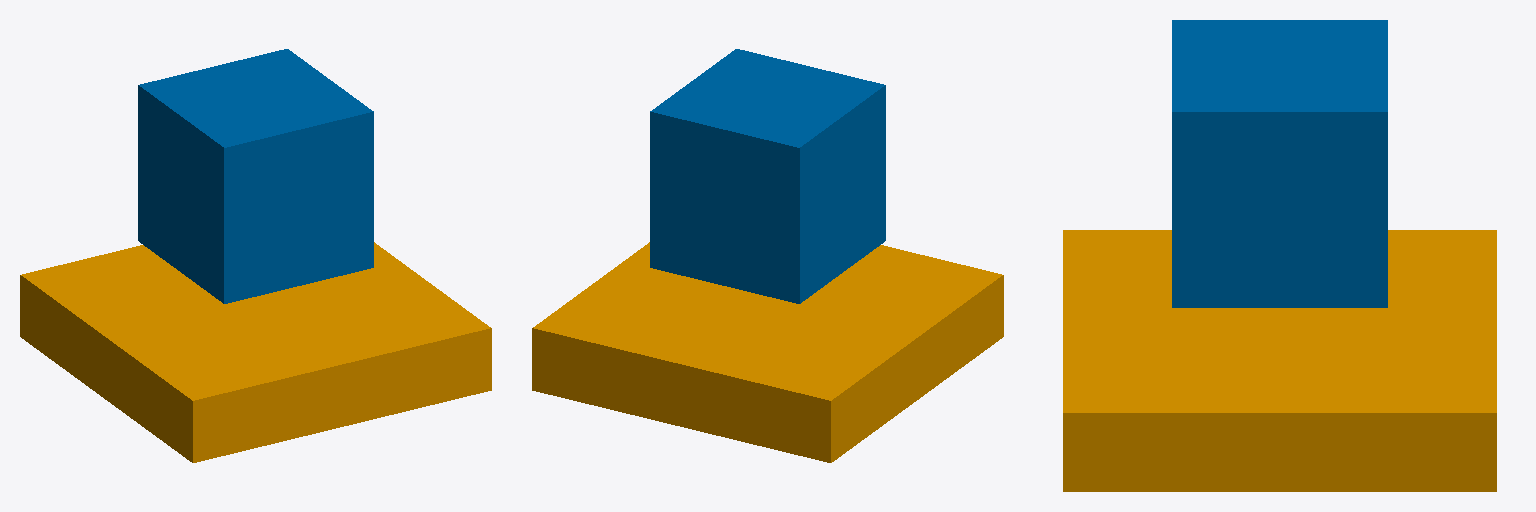
The robot description file, URDF, robot "link_skip_ghost_link_chain_branch":
<?xml version="1.0"?>
<robot name="link_skip_ghost_link_chain_branch">
  <!-- There are `Ghost Links` from the middle to the end of the link chain. -->
  <!-- Also, in this URDF, the joints are branched. -->
  <!-- In this case, the rigid body of the ghost link is deleted, and the joint referencing it is also deleted. -->
  <link name="BaseLink">
    <visual>
      <geometry>
        <box size="1.0 1.0 0.2"/>
      </geometry>
    </visual>
    <collision>
      <geometry>
        <box size="1.0 1.0 0.2"/>
      </geometry>
    </collision>
  </link>
  <link name="ghost_link" />
  <link name="ghost_link_2" />
  <link name="ghost_link_3" />
  <link name="link_box">
    <visual>
      <geometry>
        <box size="0.5 0.5 0.5"/>
      </geometry>
    </visual>
    <collision>
      <geometry>
        <box size="0.5 0.5 0.5"/>
      </geometry>
    </collision>
  </link>
  <link name="ghost_link_4" />
  <link name="ghost_link_5" />

  <joint name="joint1" type="fixed">
    <origin rpy="0 0 0" xyz="0 0 0.1"/>
    <parent link="BaseLink"/>
    <child link="ghost_link"/>
  </joint>
  <joint name="joint2" type="fixed">
    <origin rpy="0 0 0" xyz="0 0 0.1"/>
    <parent link="ghost_link"/>
    <child link="ghost_link_2"/>
  </joint>
  <joint name="joint3" type="fixed">
    <origin rpy="0 0 0" xyz="0 0 0.1"/>
    <parent link="ghost_link_2"/>
    <child link="ghost_link_3"/>
  </joint>
  <joint name="joint_box" type="revolute">
    <origin rpy="0 0 0" xyz="0 0 0.2"/>
    <axis xyz="0 1 0"/>
    <limit lower="-1.0" upper="1.0"/>
    <parent link="ghost_link_3"/>
    <child link="link_box"/>
  </joint>
  <joint name="joint4" type="fixed">
    <origin rpy="0 0 0" xyz="0.5 0 0.1"/>
    <parent link="ghost_link_2"/>
    <child link="ghost_link_4"/>
  </joint>
  <joint name="joint5" type="fixed">
    <origin rpy="0 0 0" xyz="0 0 0.1"/>
    <parent link="ghost_link_4"/>
    <child link="ghost_link_5"/>
  </joint>
</robot>

--- What the picture shows (computed from the rendered views, not written in the file) ---
3 views of the same robot in one strip: view 1: azimuth 30°, elevation 25°; view 2: azimuth 150°, elevation 25°; view 3: azimuth 270°, elevation 25° (orthographic).
Robot: link_skip_ghost_link_chain_branch — 7 links, 6 joints (1 revolute, 5 fixed); root link BaseLink; default pose: every joint at zero.
Visible links, largest first — view 1: BaseLink, link_box; view 2: BaseLink, link_box; view 3: BaseLink, link_box.
Link boxes in pixels (x1=…): BaseLink: x1=20, y1=242, x2=491, y2=462; link_box: x1=138, y1=49, x2=373, y2=303; BaseLink: x1=532, y1=242, x2=1003, y2=462; link_box: x1=650, y1=49, x2=885, y2=303; BaseLink: x1=1063, y1=230, x2=1496, y2=491; link_box: x1=1172, y1=20, x2=1387, y2=307.
Bounding box of the posed robot: 1 × 1 × 0.85 m (x, y, z).
Geometry: primitives only (box / cylinder / sphere), no mesh files.
